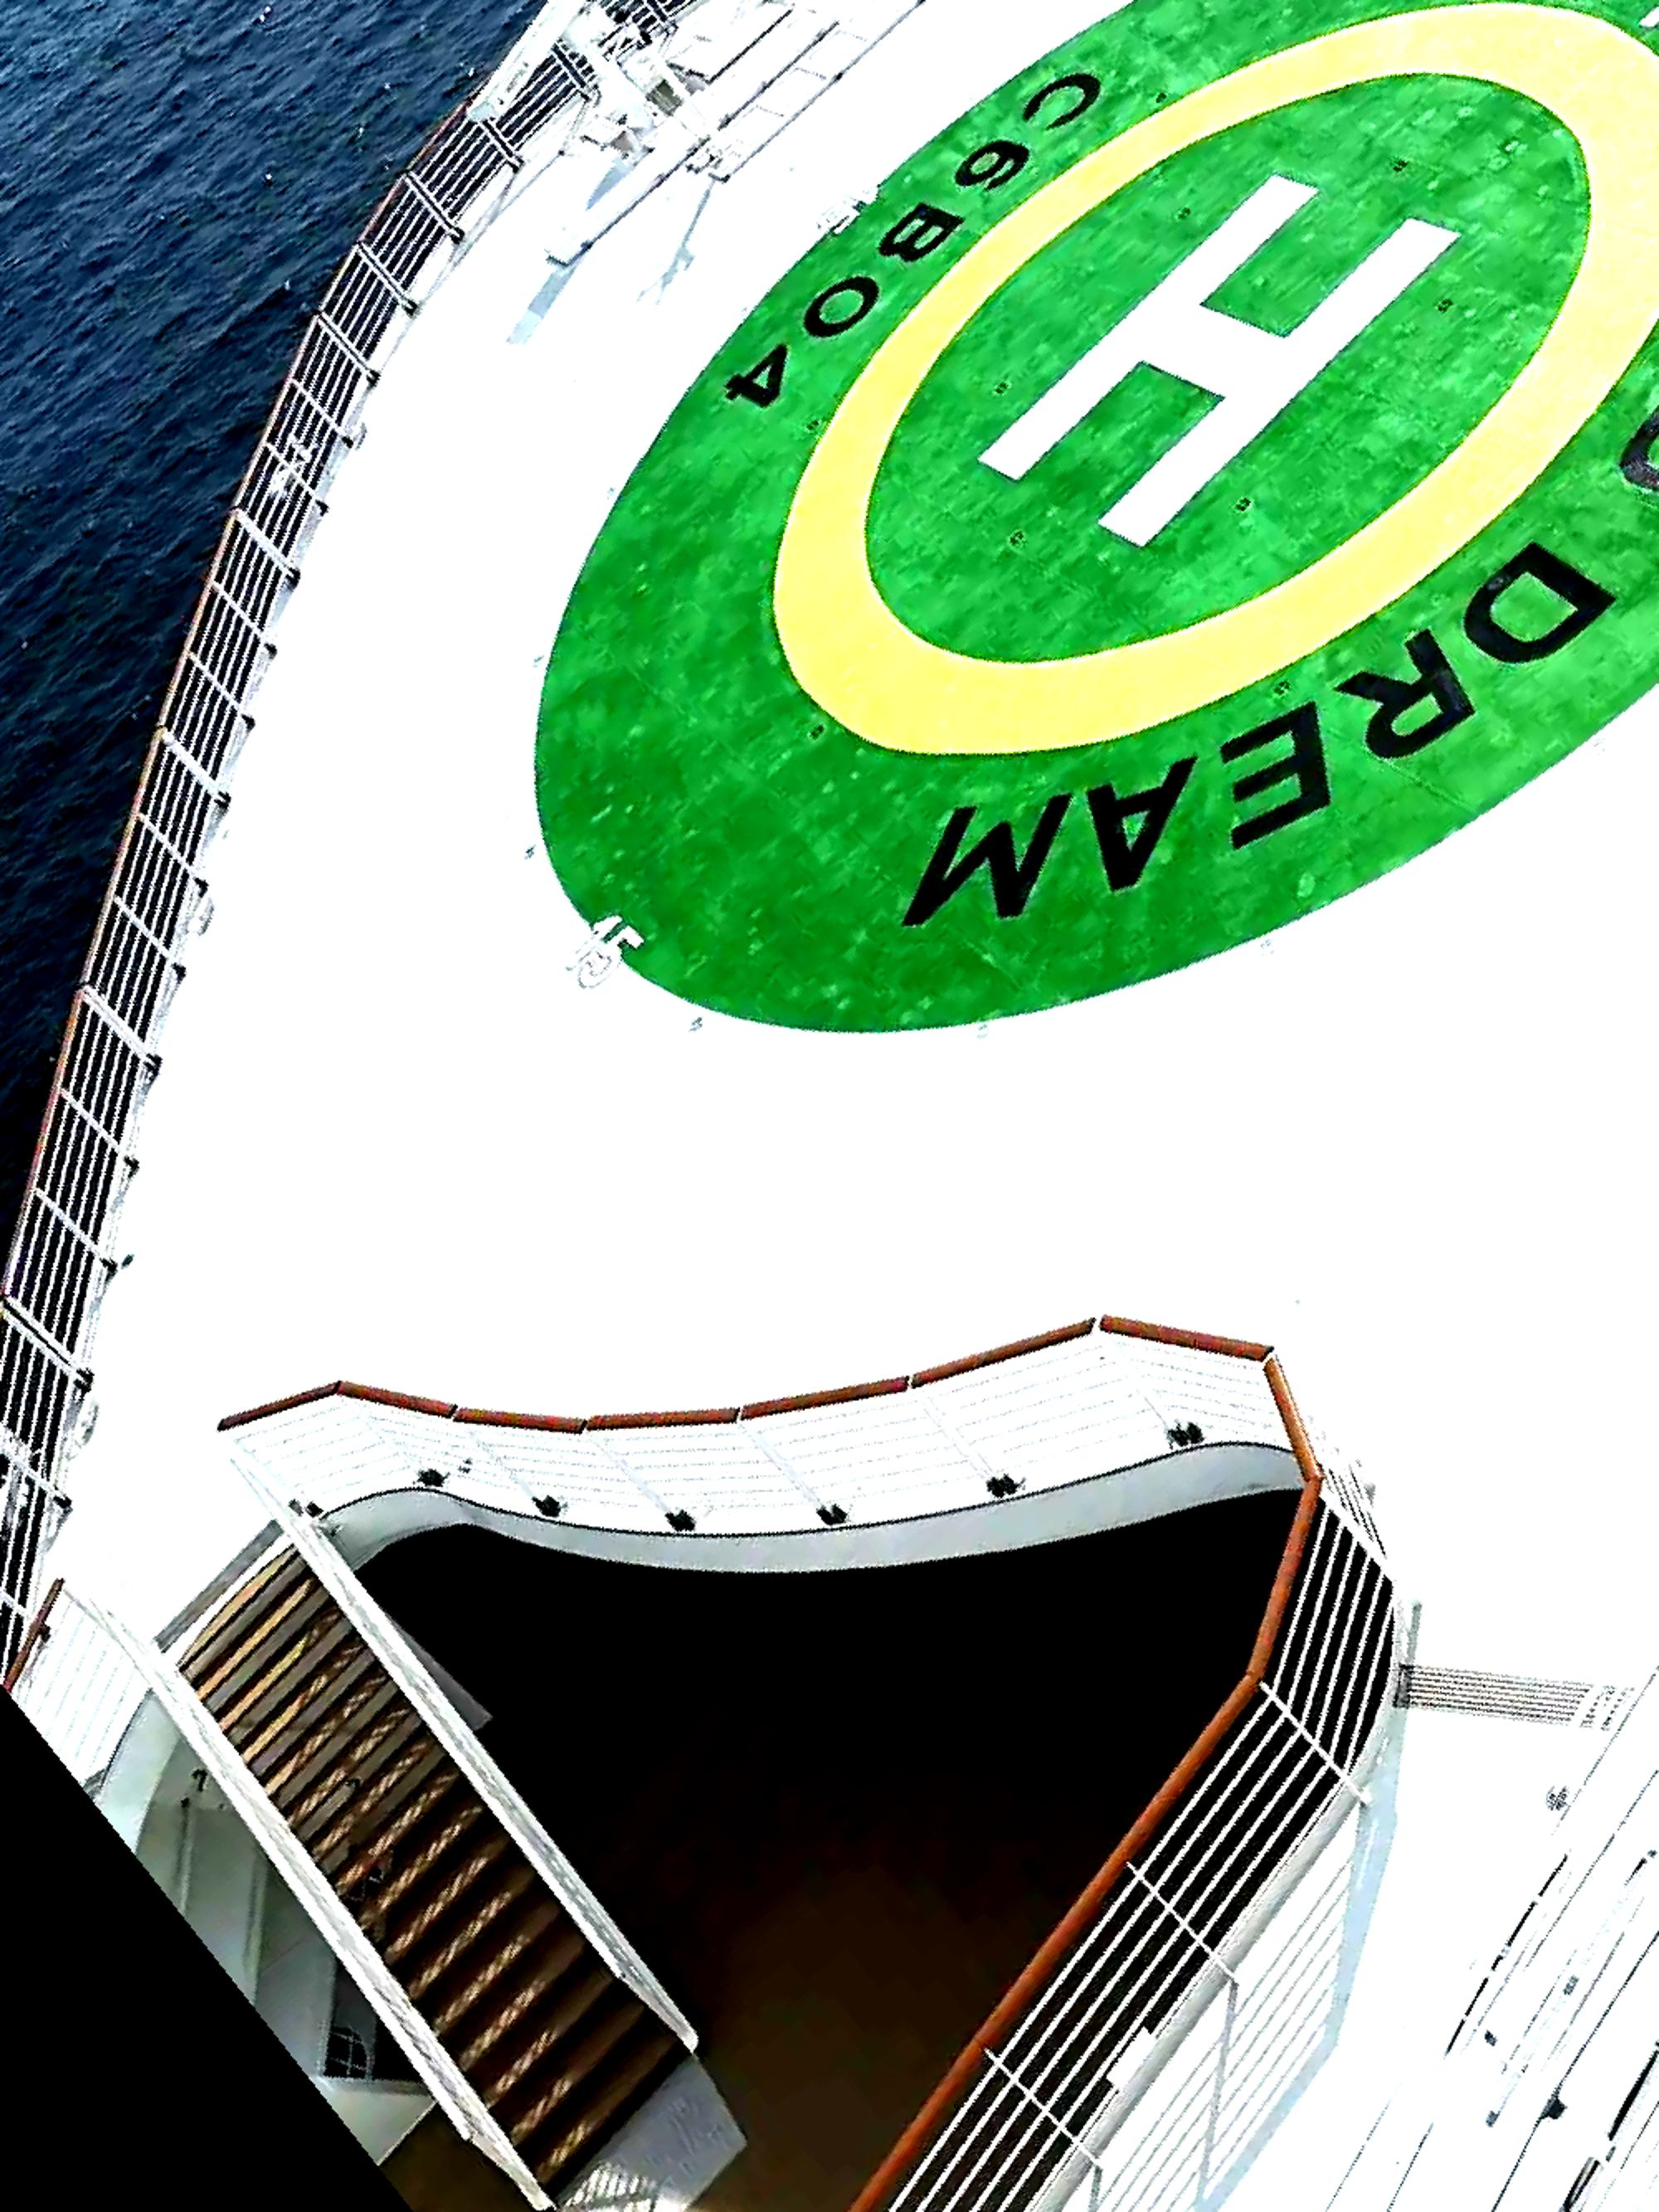Apron: (737, 14, 1633, 773)
